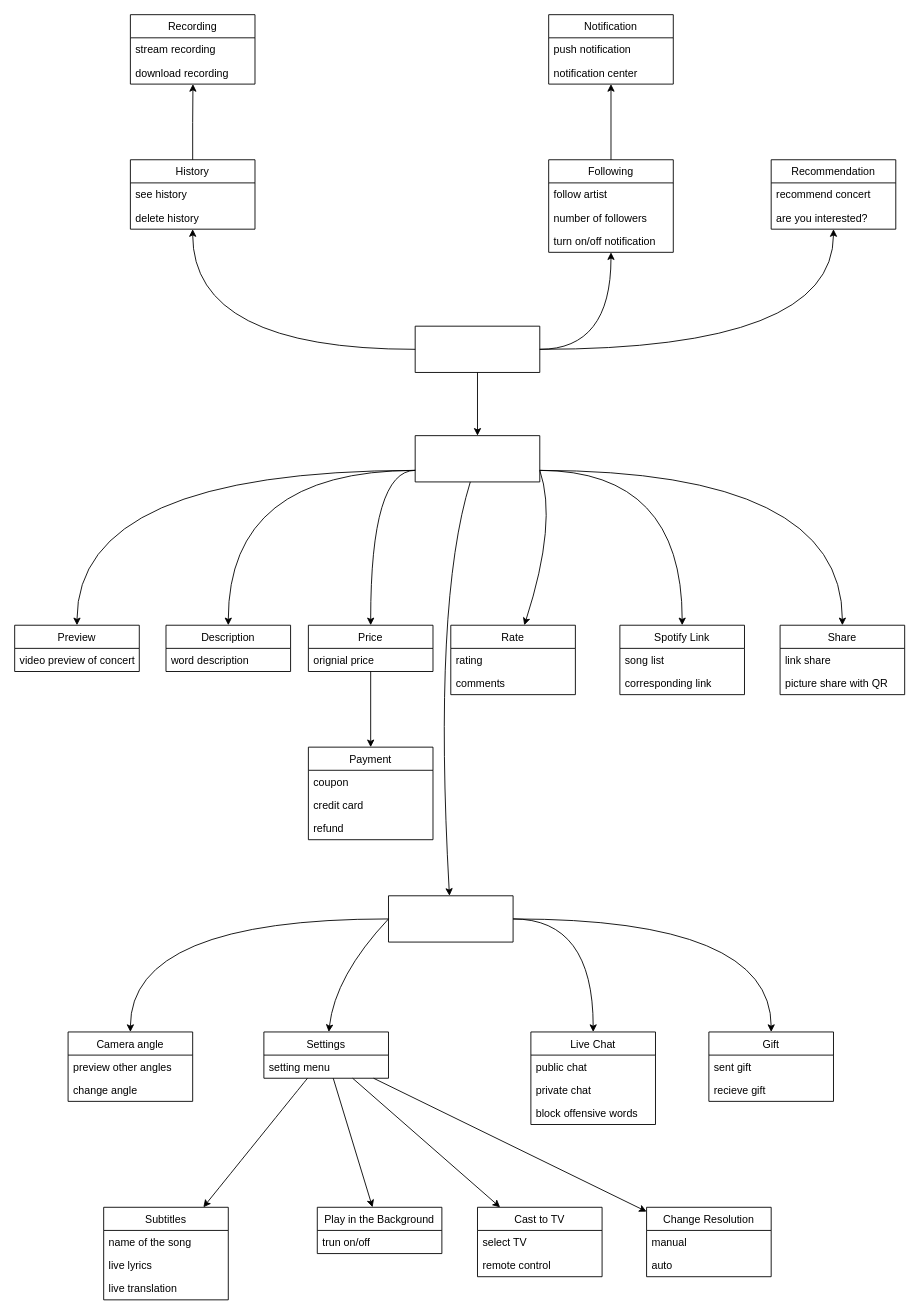
Image size: 919x1315. Some labels were removed from this diagram. Here are the shapes that lost their labels. From the top down, the centre of each, then its label:
[477,348]: Home Page
[477,458]: Concert Details
[450,918]: Live
